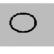no answer: (6, 12, 40, 35)
